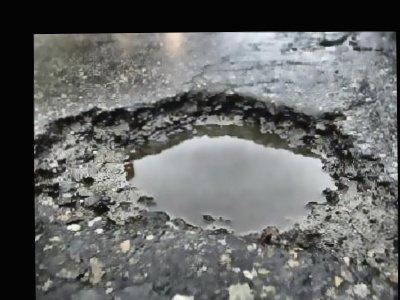pothole: (33, 81, 377, 248)
